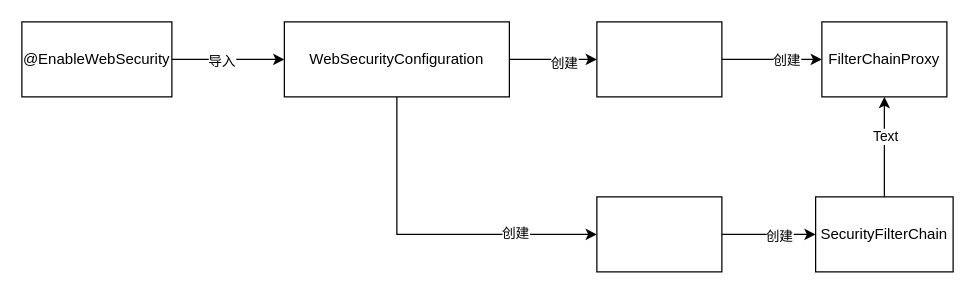
The diagram is 975 pixels wide and 294 high, and some of its shapes have lost their labels. Here are the shapes that lost their labels. From the top down, the centre of each, then its label:
At (x=659, y=59): "WebSecurity".
At (x=659, y=234): "HttpSecurity".
